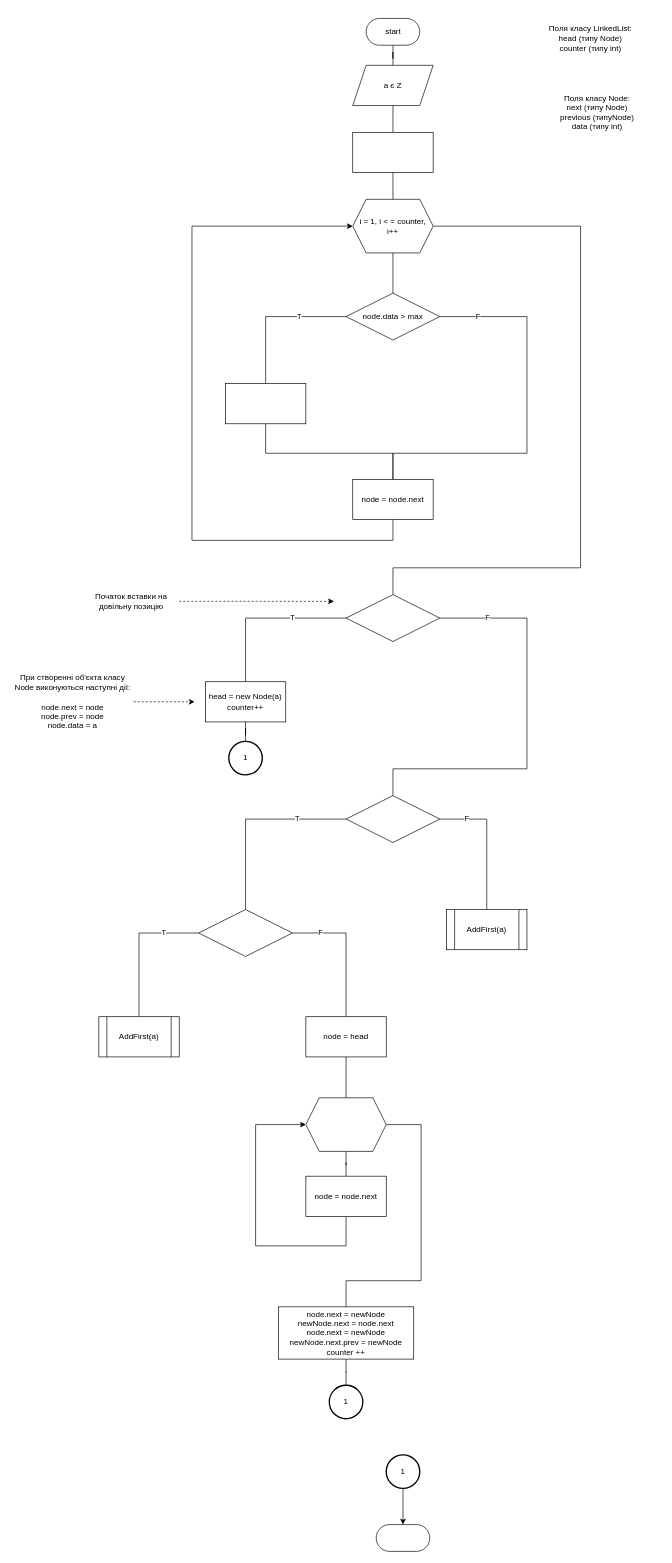
Image size: 672x1563. Some labels were removed from this diagram. The shapes that lost their labels are listed below. From the top down, each one's centre as x and y in pixels, then its label:
At [392,152]: "node = head max = int.MinValue posCounter = 1".
At [265,403]: "max = node.data posCounter++".
At [392,618]: "head == null".
At [392,819]: "pos <= counter + 1".
At [245,932]: "pos == 1".
At [345,1124]: "i = 1, i < pos - 1, i++".
At [403,1537]: "end".
